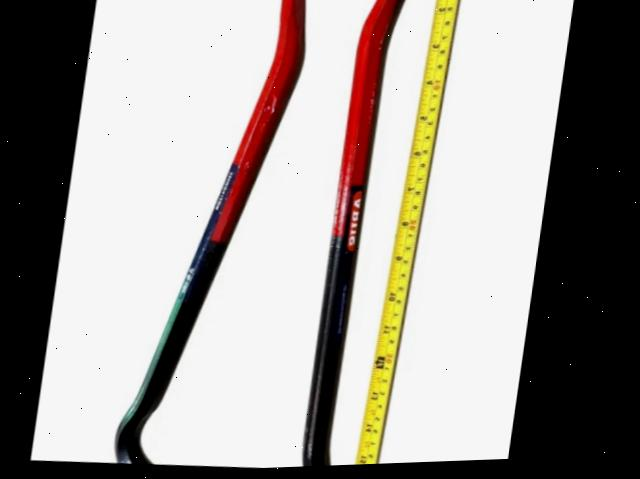crow bar: (109, 0, 310, 466), (305, 0, 422, 469)
